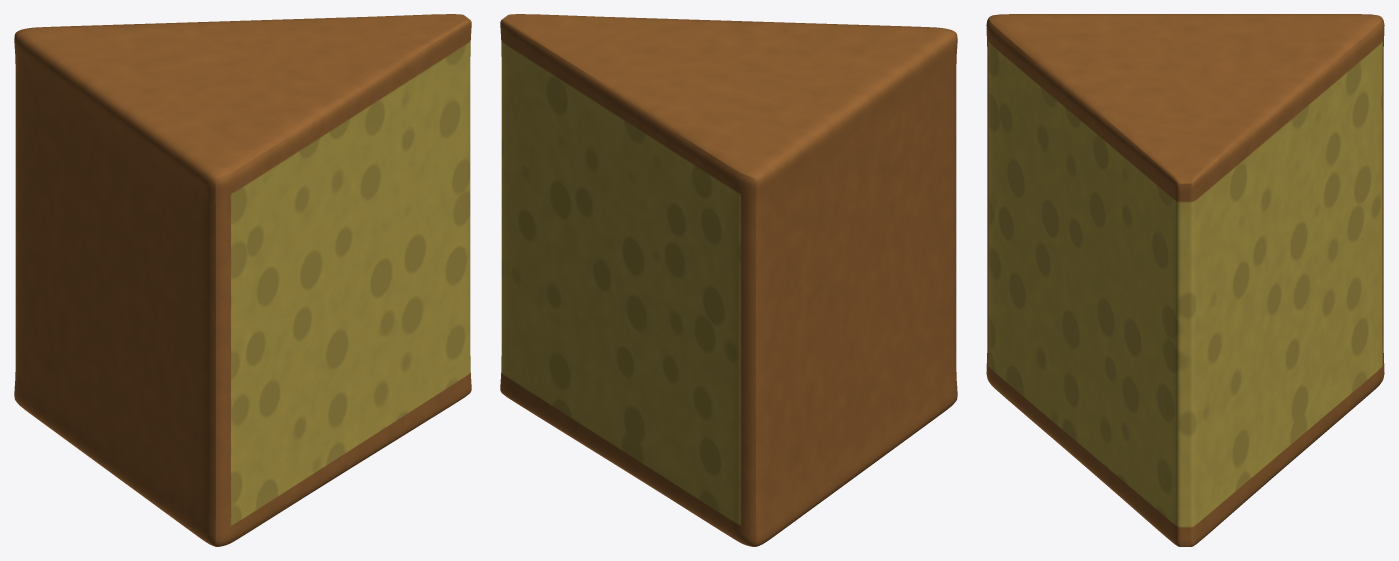
File: FullCheese.fbx
The picture shows the model from 3 angles, left to right: view 1: azimuth 30°, elevation 25°; view 2: azimuth 150°, elevation 25°; view 3: azimuth 270°, elevation 25°; orthographic projection. The views are drawn at different scales.
Parts seen in each view (by area): view 1: Cube; view 2: Cube; view 3: Cube.
Part boxes in pixels (x1,y1,x2,y2): Cube: [14, 14, 471, 546]; Cube: [500, 14, 957, 546]; Cube: [986, 14, 1384, 546].
Size of the model in its own units: 198 by 200 by 196.
